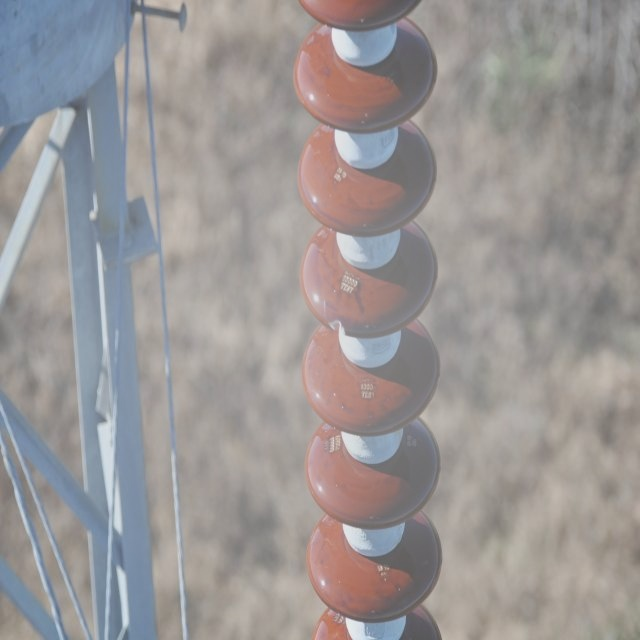broken: (320, 311, 353, 339)
insulator: (294, 2, 442, 639)
